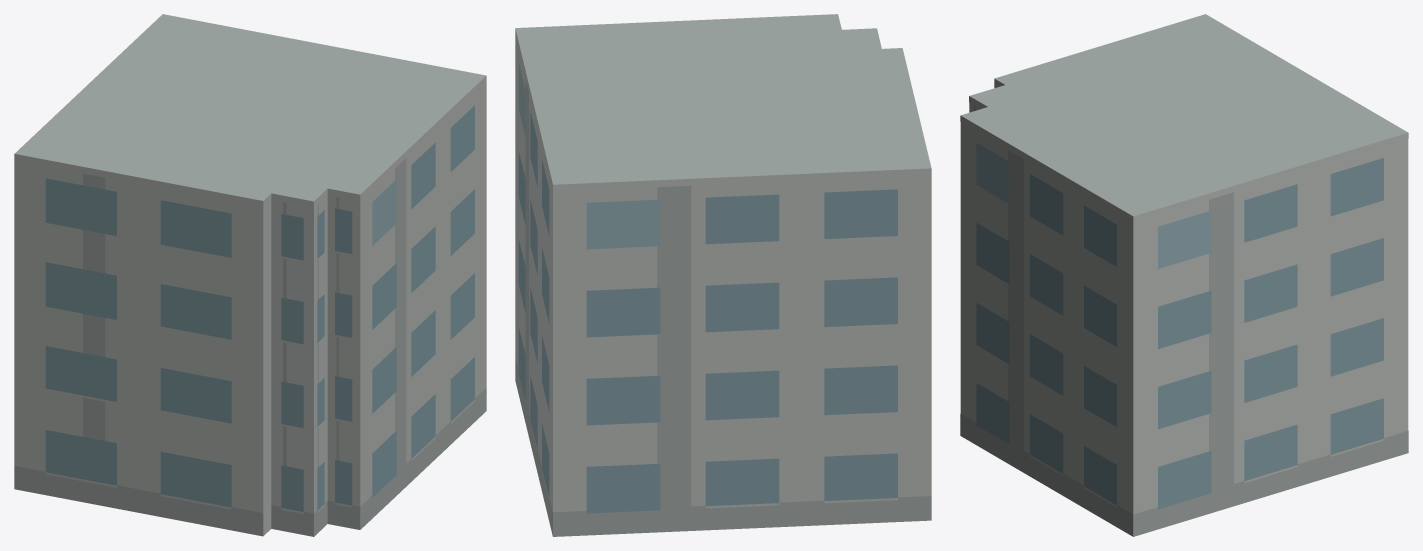
Rendered from residential-0b8e1f98-368c-4c7c-8938-90bc8cc35420.glb.
3 views of the same model, side by side, from view 1: azimuth 30°, elevation 25°; view 2: azimuth 150°, elevation 25°; view 3: azimuth 270°, elevation 25° (orthographic). The views are drawn at different scales.
Parts seen in each view (by area): view 1: residential-0b8e1f98-368c-4c7c-8938-90bc8cc35420.tmp; view 2: residential-0b8e1f98-368c-4c7c-8938-90bc8cc35420.tmp; view 3: residential-0b8e1f98-368c-4c7c-8938-90bc8cc35420.tmp.
Boxes of the visible parts, x1,y1,x2,y2 form: residential-0b8e1f98-368c-4c7c-8938-90bc8cc35420.tmp: (14, 14, 486, 536); residential-0b8e1f98-368c-4c7c-8938-90bc8cc35420.tmp: (515, 14, 931, 536); residential-0b8e1f98-368c-4c7c-8938-90bc8cc35420.tmp: (960, 14, 1408, 536).
Bounding box in the file's own units: 16.61 × 12.25 × 15.53.
